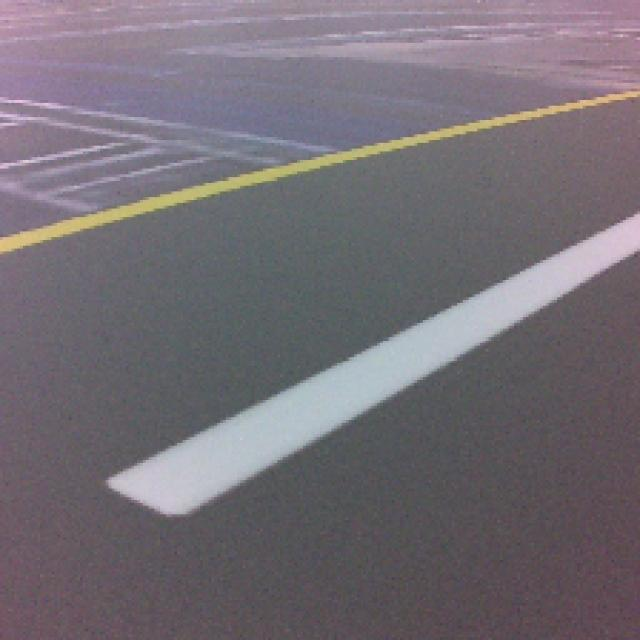Guard rail: (110, 217, 638, 523)
